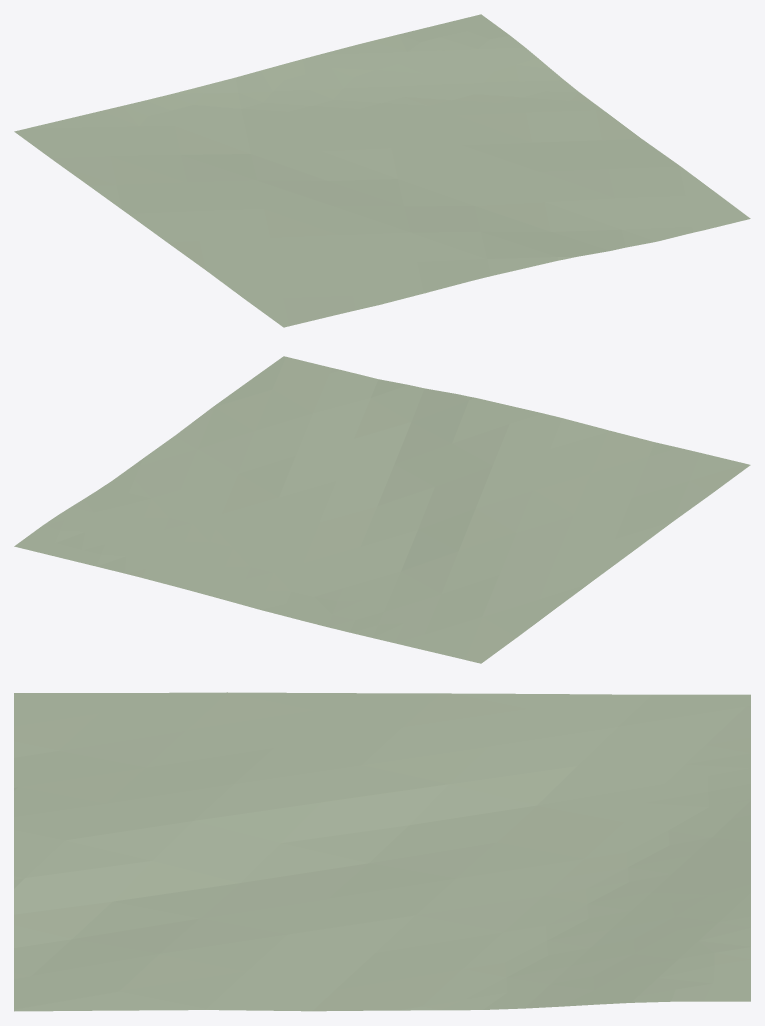
File: SM_MPRR_Terrain_0_3.fbx
The picture shows the model from 3 angles, top to bottom: view 1: azimuth 30°, elevation 25°; view 2: azimuth 150°, elevation 25°; view 3: azimuth 270°, elevation 25°; orthographic projection. The views are drawn at different scales.
Visible parts, largest first — view 1: SM_MPRR_Terrain_0_3; view 2: SM_MPRR_Terrain_0_3; view 3: SM_MPRR_Terrain_0_3.
Boxes of the visible parts, left/top/right/bottom form: SM_MPRR_Terrain_0_3: left=14, top=14, right=750, bottom=327; SM_MPRR_Terrain_0_3: left=14, top=356, right=750, bottom=663; SM_MPRR_Terrain_0_3: left=14, top=692, right=750, bottom=1011.
Size of the model in its own units: 15000 by 15000 by 236.
